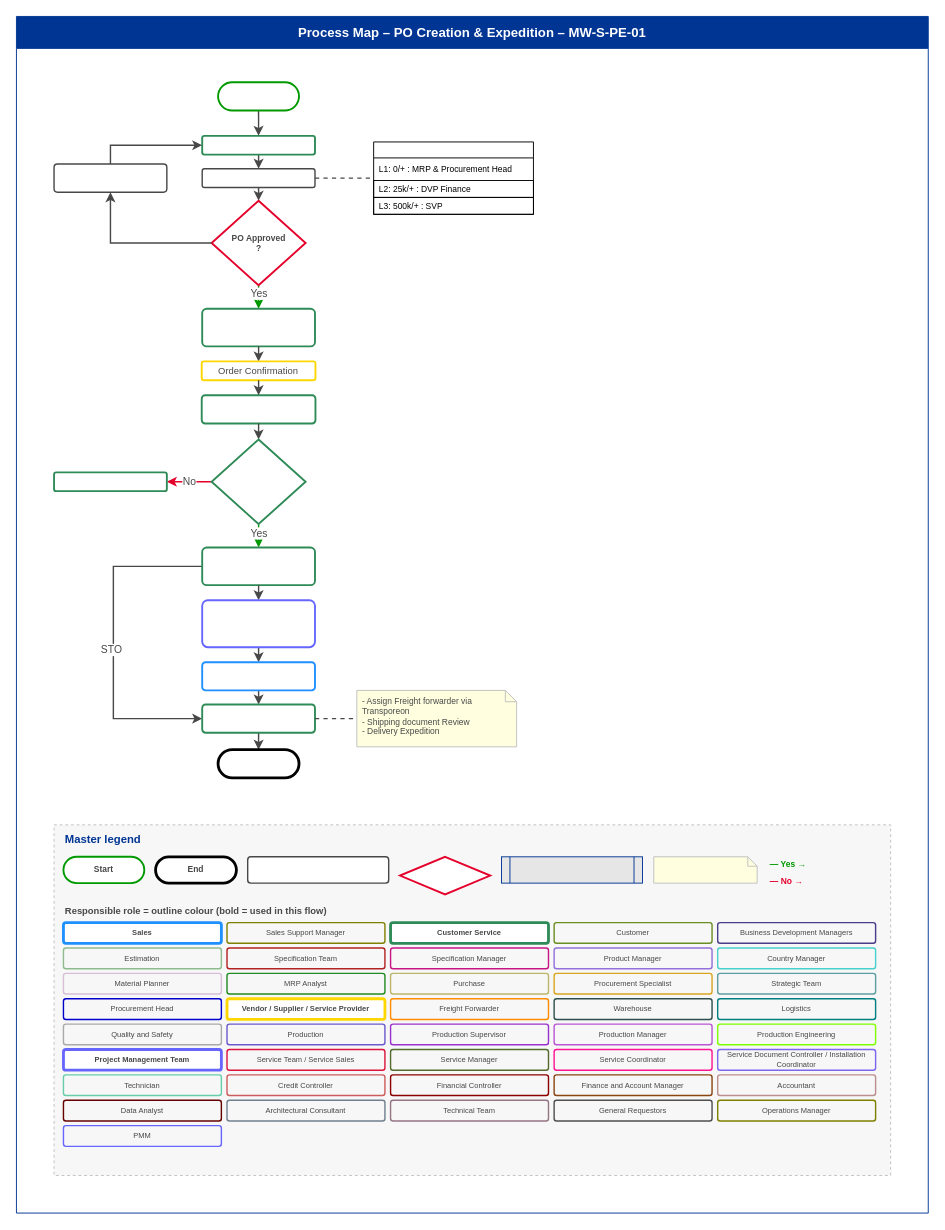
This 945x1230 diagram has some shape labels left out. Here are the shapes that lost their labels. From the top down, the box of each, then its label:
(217, 81, 299, 111): PO Creation & Expedition
(201, 134, 315, 155): Create/Update PO
(53, 163, 167, 193): Need Clarification & Update
(201, 168, 315, 188): SAP Approval Workflow
(373, 141, 533, 214): Approval Level by PO Value in USD
(201, 307, 315, 347): Send PO Copy to factory as per Factory Quotation
(200, 394, 316, 424): Verify Order Confirmation
(53, 471, 167, 492): Order Expedition
(210, 438, 306, 525): OC Accepted?
(201, 546, 315, 586): Notify Project management team and Sales on availability
(201, 599, 315, 648): Preparation for Track Installation (Site dimensions and approvals)
(201, 661, 315, 691): Notify Customer on delivery date
(201, 703, 315, 733): Track Shipment Update sales and PMT
(216, 748, 300, 779): Delivery or to Stock
(247, 856, 389, 883): Activity (outline = role)
(399, 855, 491, 895): Decision
(501, 856, 642, 883): Linked process (Ref ID)
(653, 856, 757, 883): Note / checklist
